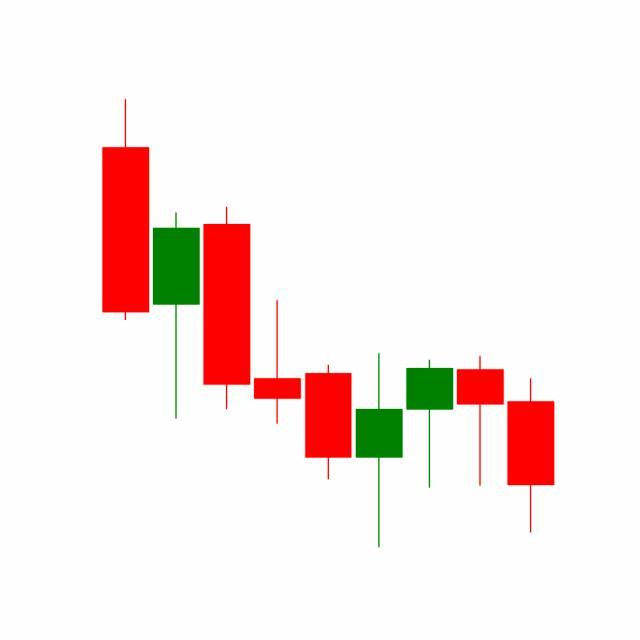Hikkake Pattern: (252, 297, 506, 549)
